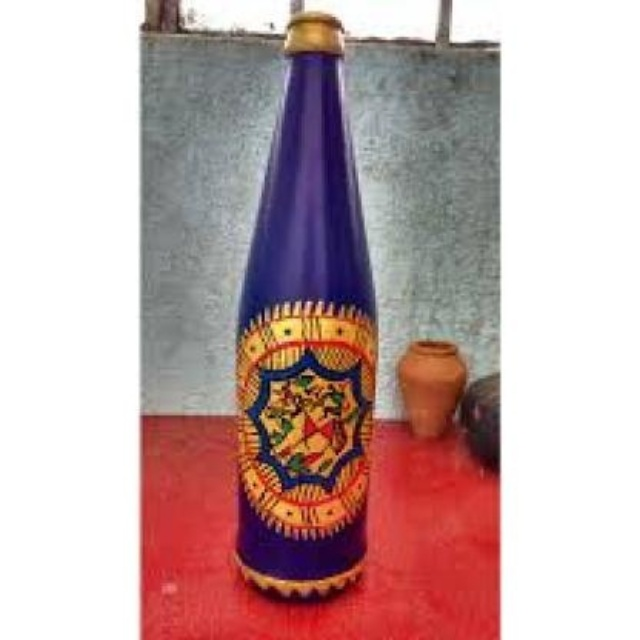trash: (237, 12, 375, 597)
